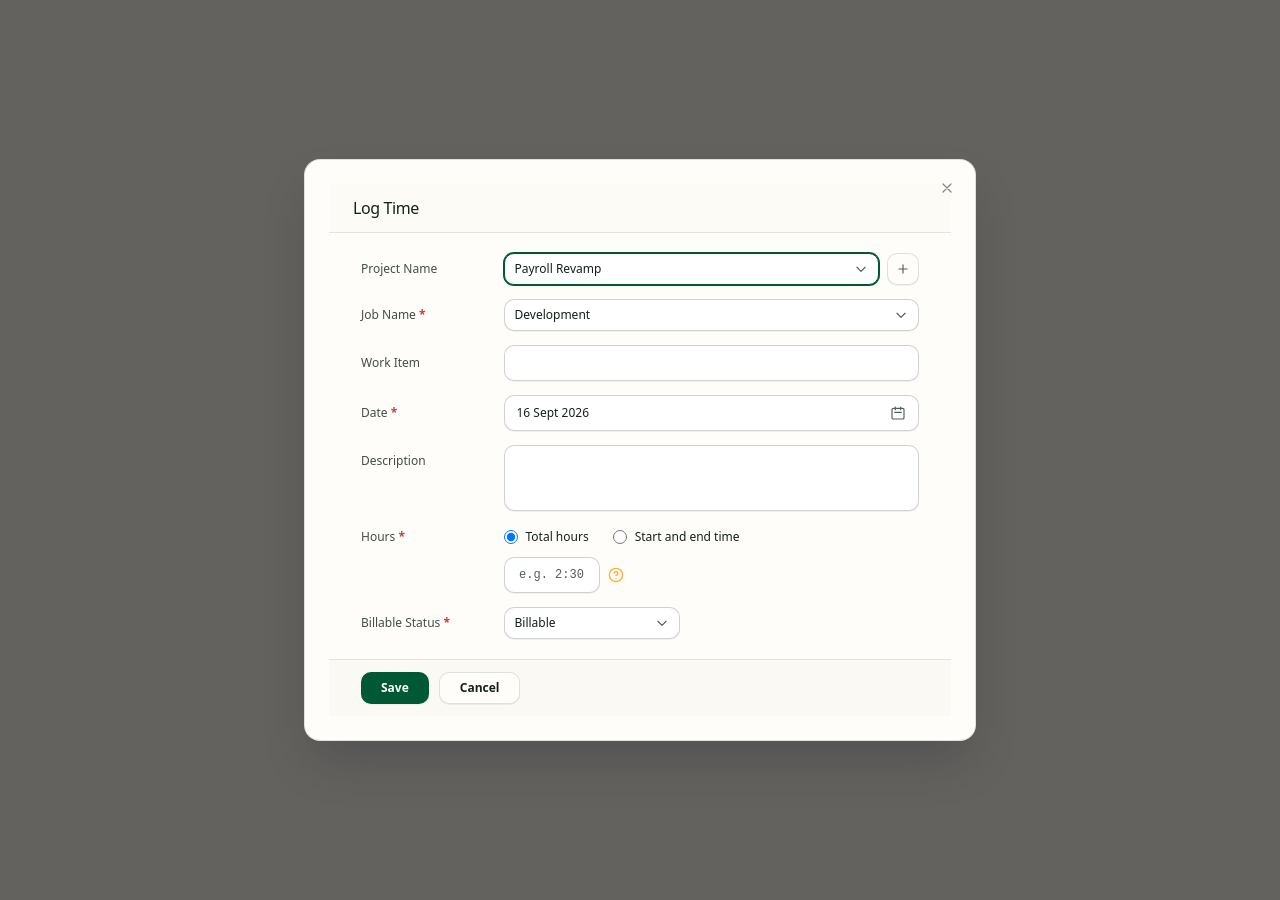
Test: Log Time quick-add project › keeps the dialog open and shows why when creation is refused
The image size is (1280, 900).
Click the button named "add a new project" at (903, 269), box [887,253,919,285]
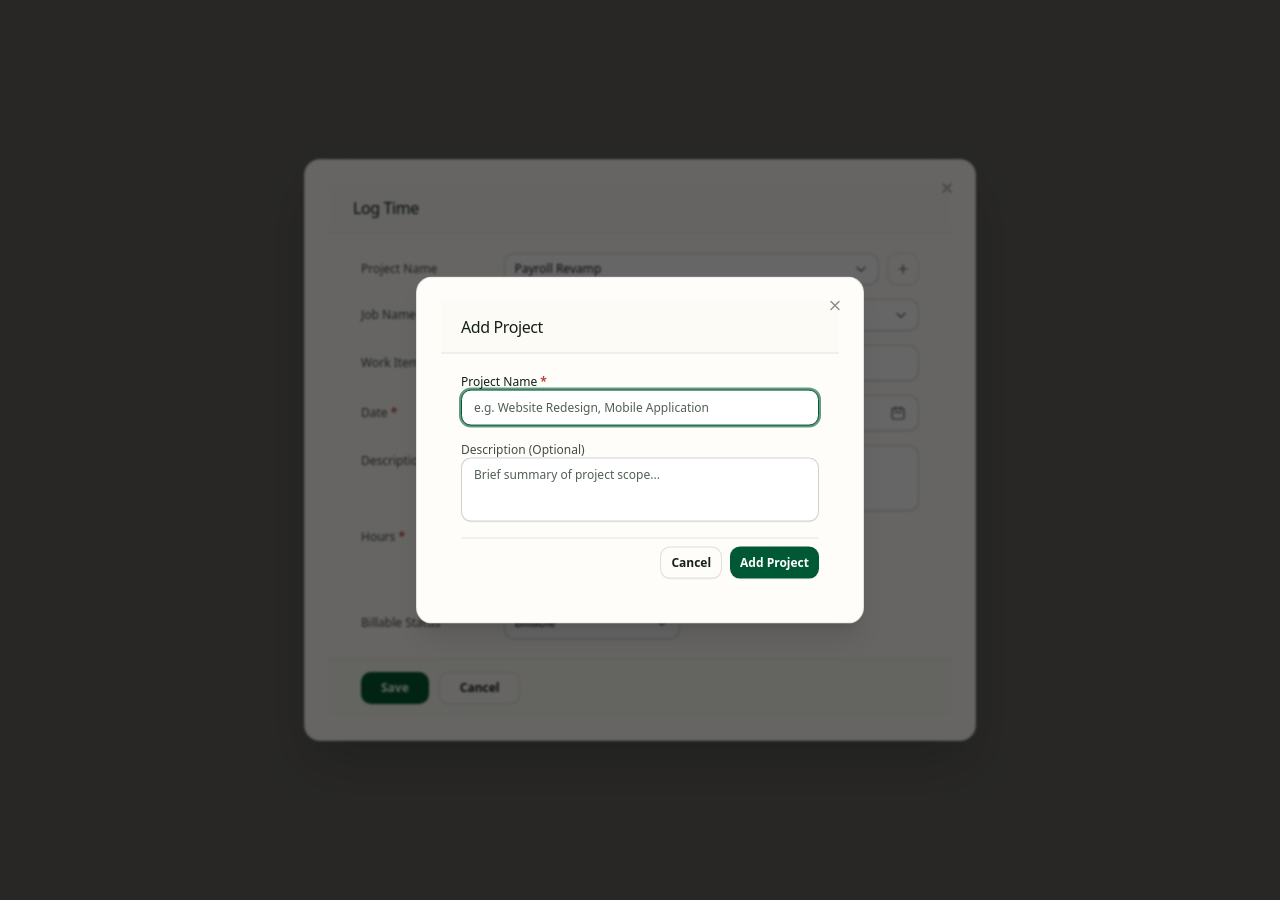
Type "Website Redesign" into the field labelled "Project Name *" at (640, 407), box [461,389,819,425]
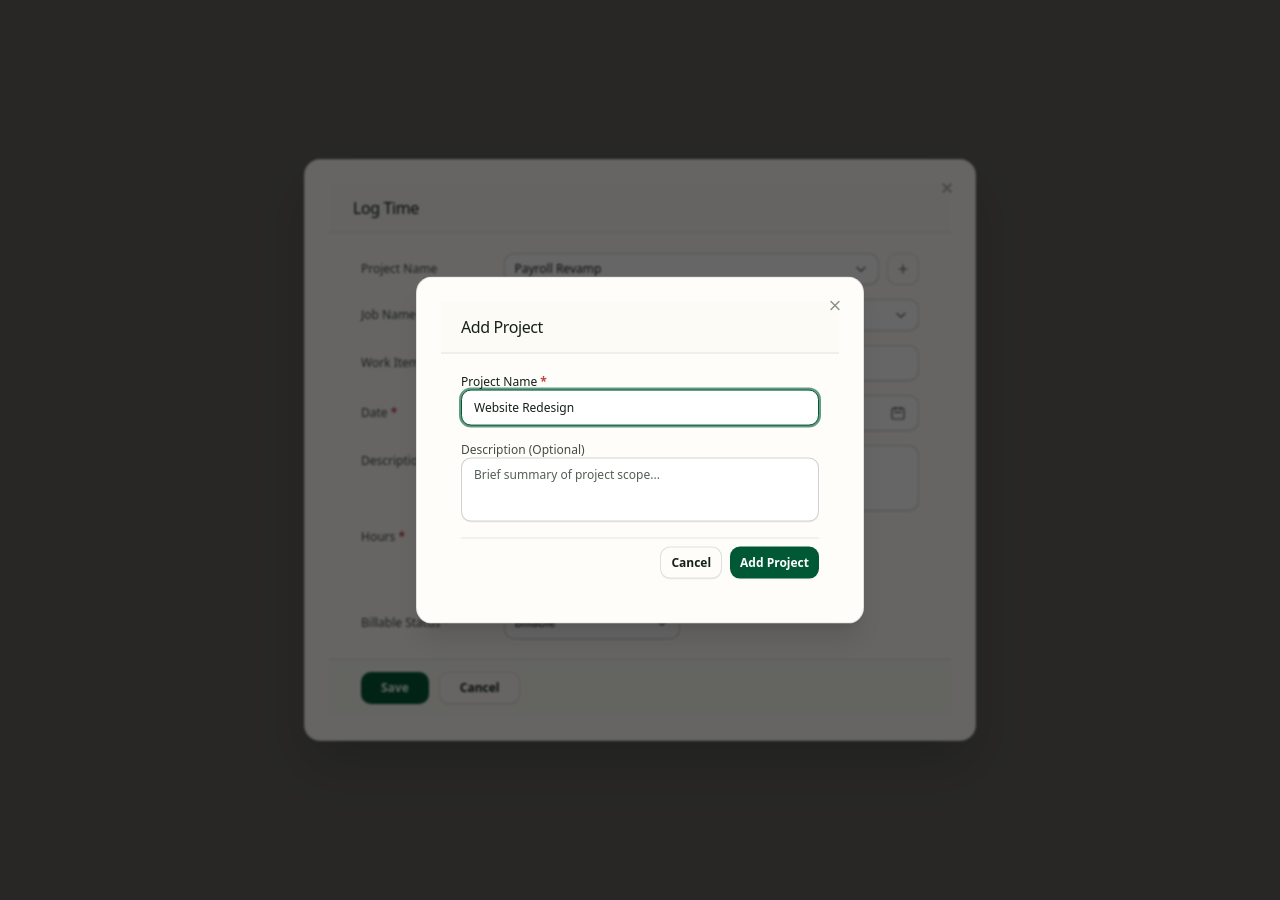
Click the button "Add Project" at (775, 562), box [730,546,819,578]
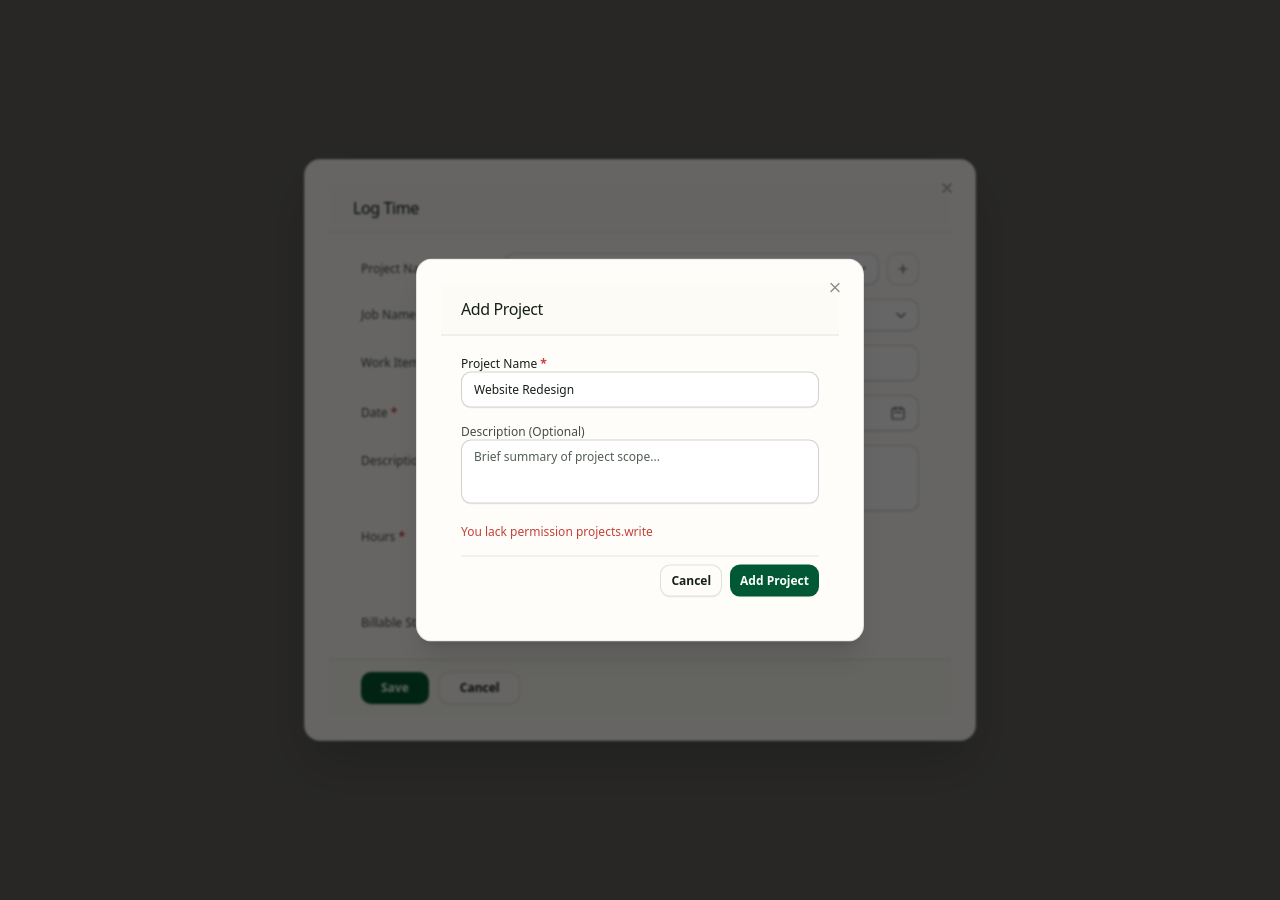
Expected: the dropdown reads "Payroll Revamp", [504,253,879,285]
Expected: the message reads "You lack permission projects.write", [461,522,653,539]
